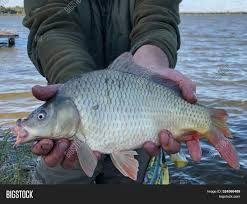Grass Carp: (17, 51, 240, 181)
